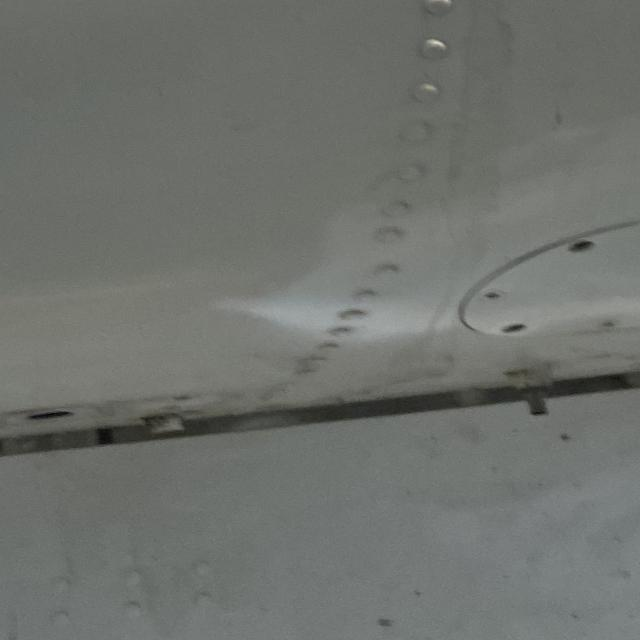Missing-head: (567, 240, 596, 254)
